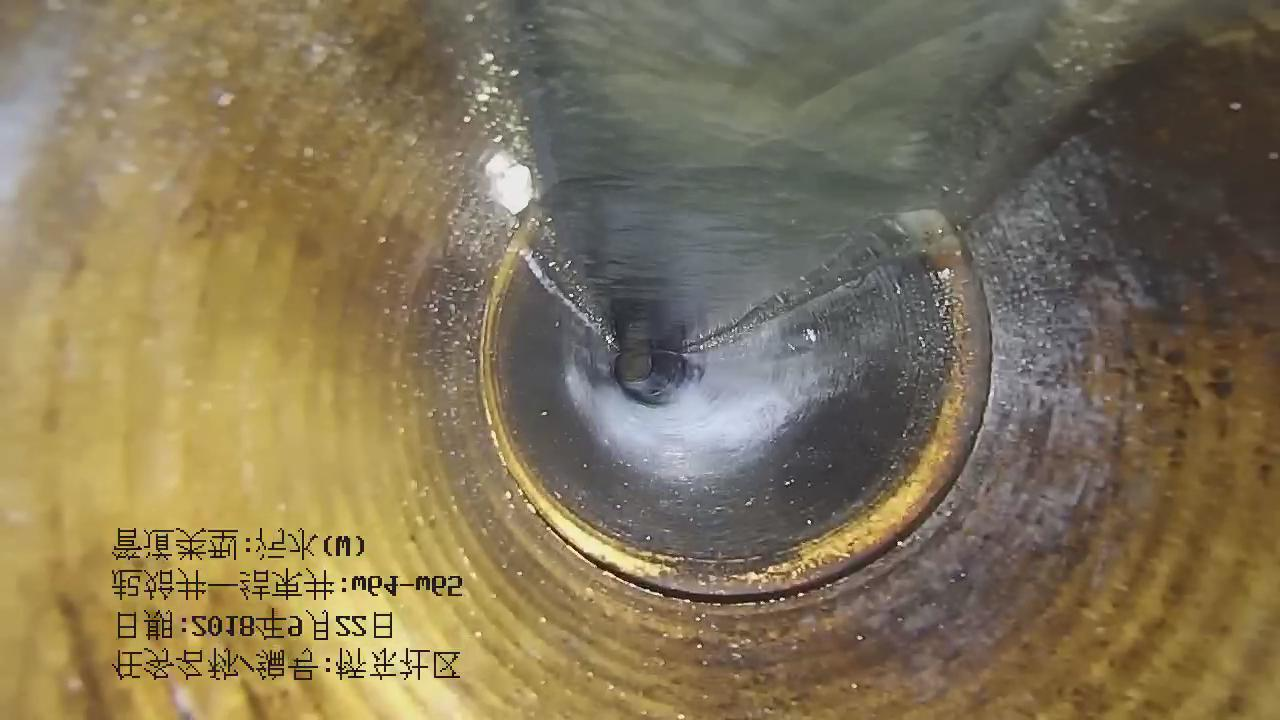CKTJ: (474, 196, 1001, 613)
